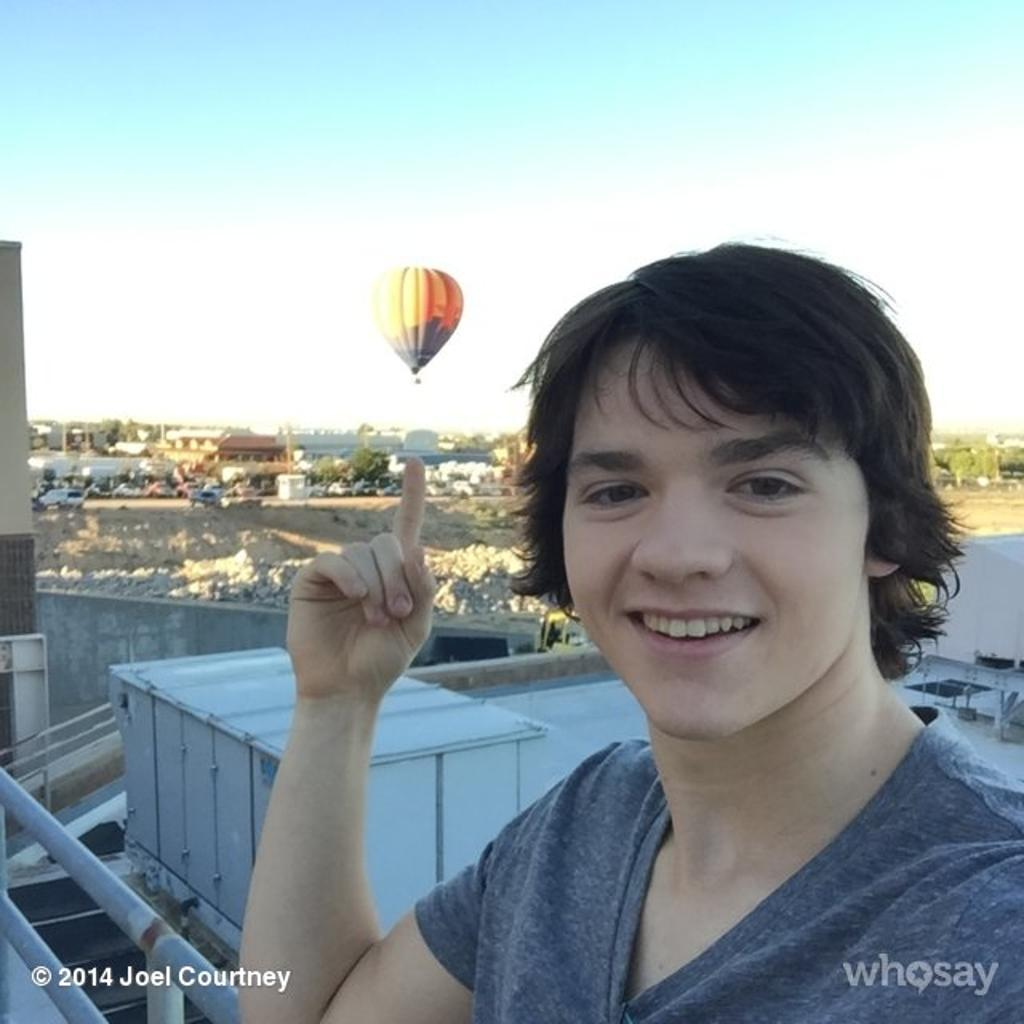face: (563, 339, 867, 737)
